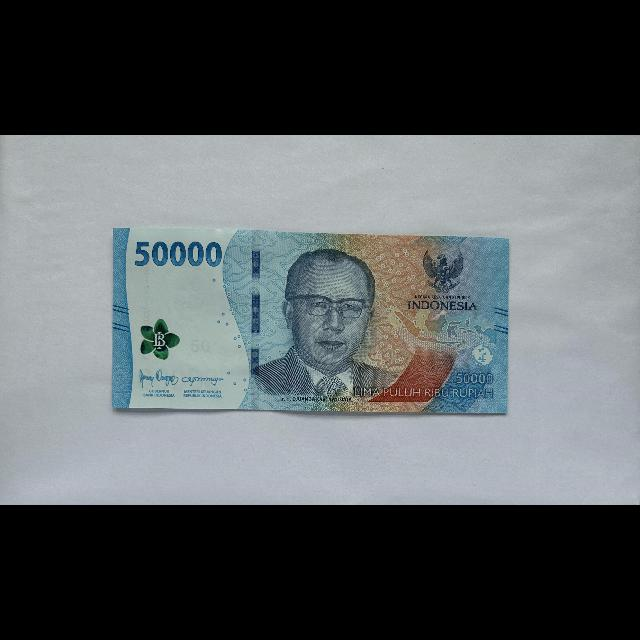Asli-50k: (112, 227, 511, 416)
Tinta-Asli-50k: (140, 318, 181, 361)
